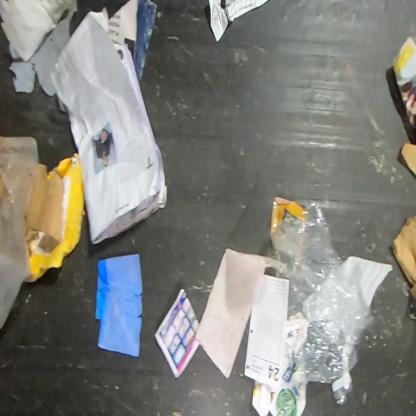cardboard: (24, 163, 64, 243), (392, 215, 415, 307), (400, 142, 415, 177)
soft_plastic: (269, 199, 376, 404), (0, 136, 40, 332)
